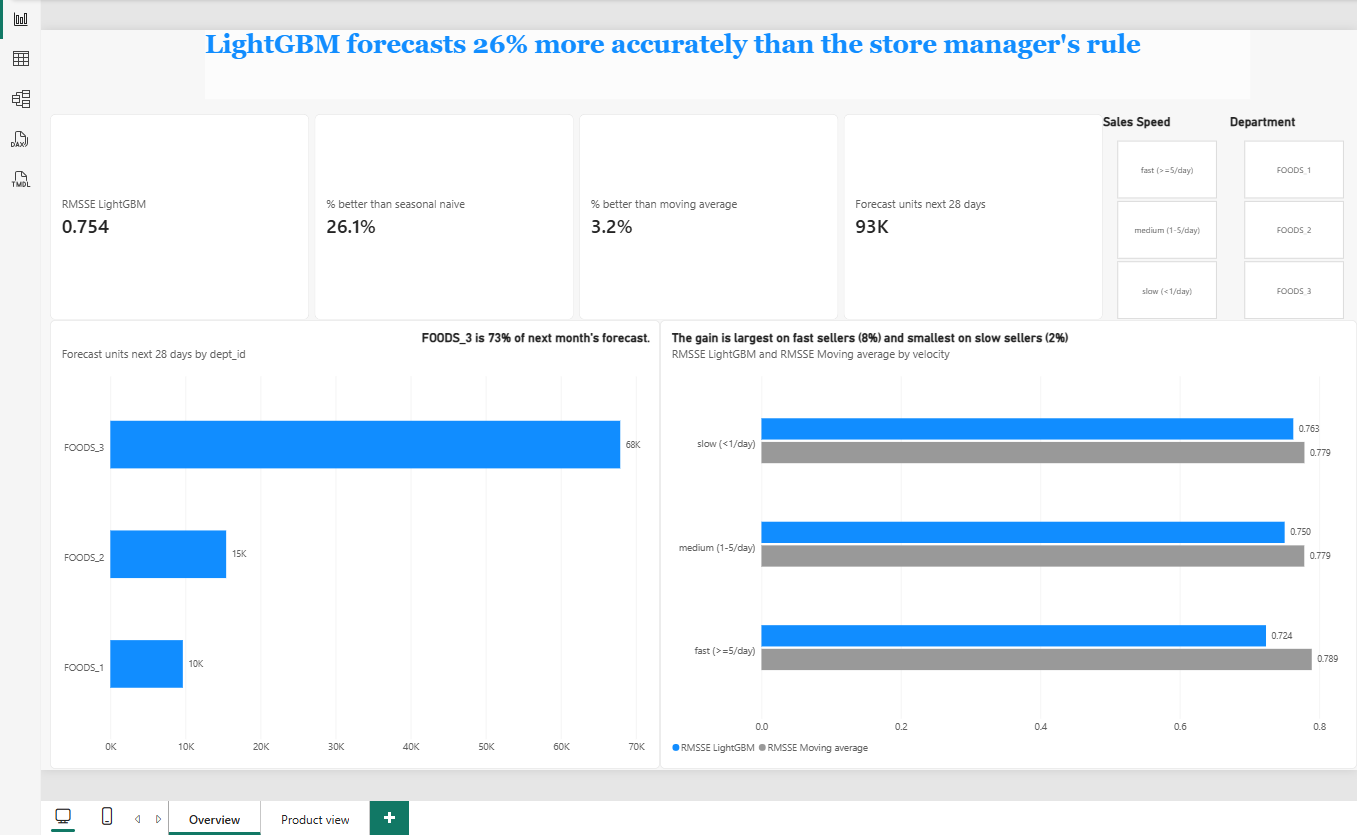

What the dashboard file says about the page in this screenshot:
{"tool":"powerbi","page":{"name":"Overview","canvas":[1920,1080],"ordinal":0},"visuals":[{"type":"textbox","box":[239.3,0,1524.6,100.7],"z":0},{"type":"cardVisual","fields":{"Data":["item_errors.RMSSE LightGBM","item_errors.% better than seasonal naive","item_errors.% better than moving average","item_errors.Forecast units next 28 days"]},"box":[13.1,122.6,1536.3,300.5],"z":1000},{"type":"clusteredBarChart","title":"The gain is largest on fast sellers (8%) and smallest on slow sellers (2%)","fields":{"Category":["items.velocity"],"Y":["item_errors.RMSSE LightGBM","item_errors.RMSSE Moving average"]},"box":[903.1,423.1,1016.9,655.1],"z":2000},{"type":"clusteredBarChart","title":"FOODS_3 is 73% of next month''s forecast.","fields":{"Category":["items.dept_id"],"Y":["item_errors.Forecast units next 28 days"]},"box":[13.1,423.1,890,655.1],"z":3000},{"type":"slicer","title":"Department","fields":{"Values":["items.dept_id"]},"box":[1734.7,122.6,185.3,300.5],"z":4000},{"type":"slicer","title":"Sales Speed","fields":{"Values":["items.velocity"]},"box":[1549.4,122.6,185.3,300.5],"z":5000}]}

Visuals, with their boxes on the page's 1920x1080 design canvas (x1, y1, x2, y2). These are canvas units, not pixel positions in the 1357x835 screenshot, which may show the page scaled, cropped or inside an application window:
textbox: {"x1": 239, "y1": 0, "x2": 1764, "y2": 101}
cardVisual - item_errors.RMSSE LightGBM x item_errors.% better than seasonal naive: {"x1": 13, "y1": 123, "x2": 1549, "y2": 423}
"The gain is largest on fast sellers (8%) and smallest on slow sellers (2%)" clusteredBarChart: {"x1": 903, "y1": 423, "x2": 1920, "y2": 1078}
"FOODS_3 is 73% of next month''s forecast." clusteredBarChart: {"x1": 13, "y1": 423, "x2": 903, "y2": 1078}
"Department" slicer: {"x1": 1735, "y1": 123, "x2": 1920, "y2": 423}
"Sales Speed" slicer: {"x1": 1549, "y1": 123, "x2": 1735, "y2": 423}
